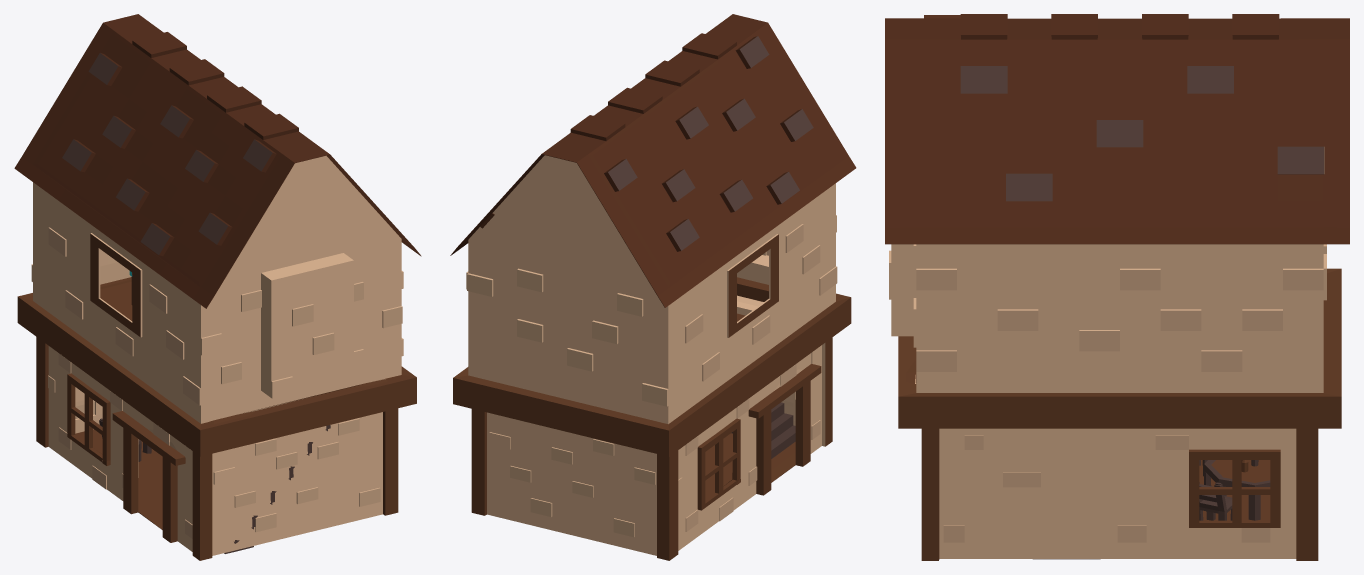
File: House_2.fbx
3 renders of one model, left to right at view 1: azimuth 30°, elevation 25°; view 2: azimuth 150°, elevation 25°; view 3: azimuth 270°, elevation 25°, orthographic. The views are drawn at different scales.
Parts seen in each view (by area): view 1: Cube; view 2: Cube; view 3: Cube.
Boxes of the visible parts, bbox=[...] form: Cube: bbox=[14, 14, 421, 560]; Cube: bbox=[450, 14, 856, 560]; Cube: bbox=[885, 14, 1349, 560].
Size of the model in its own units: 609 by 1061 by 934.
